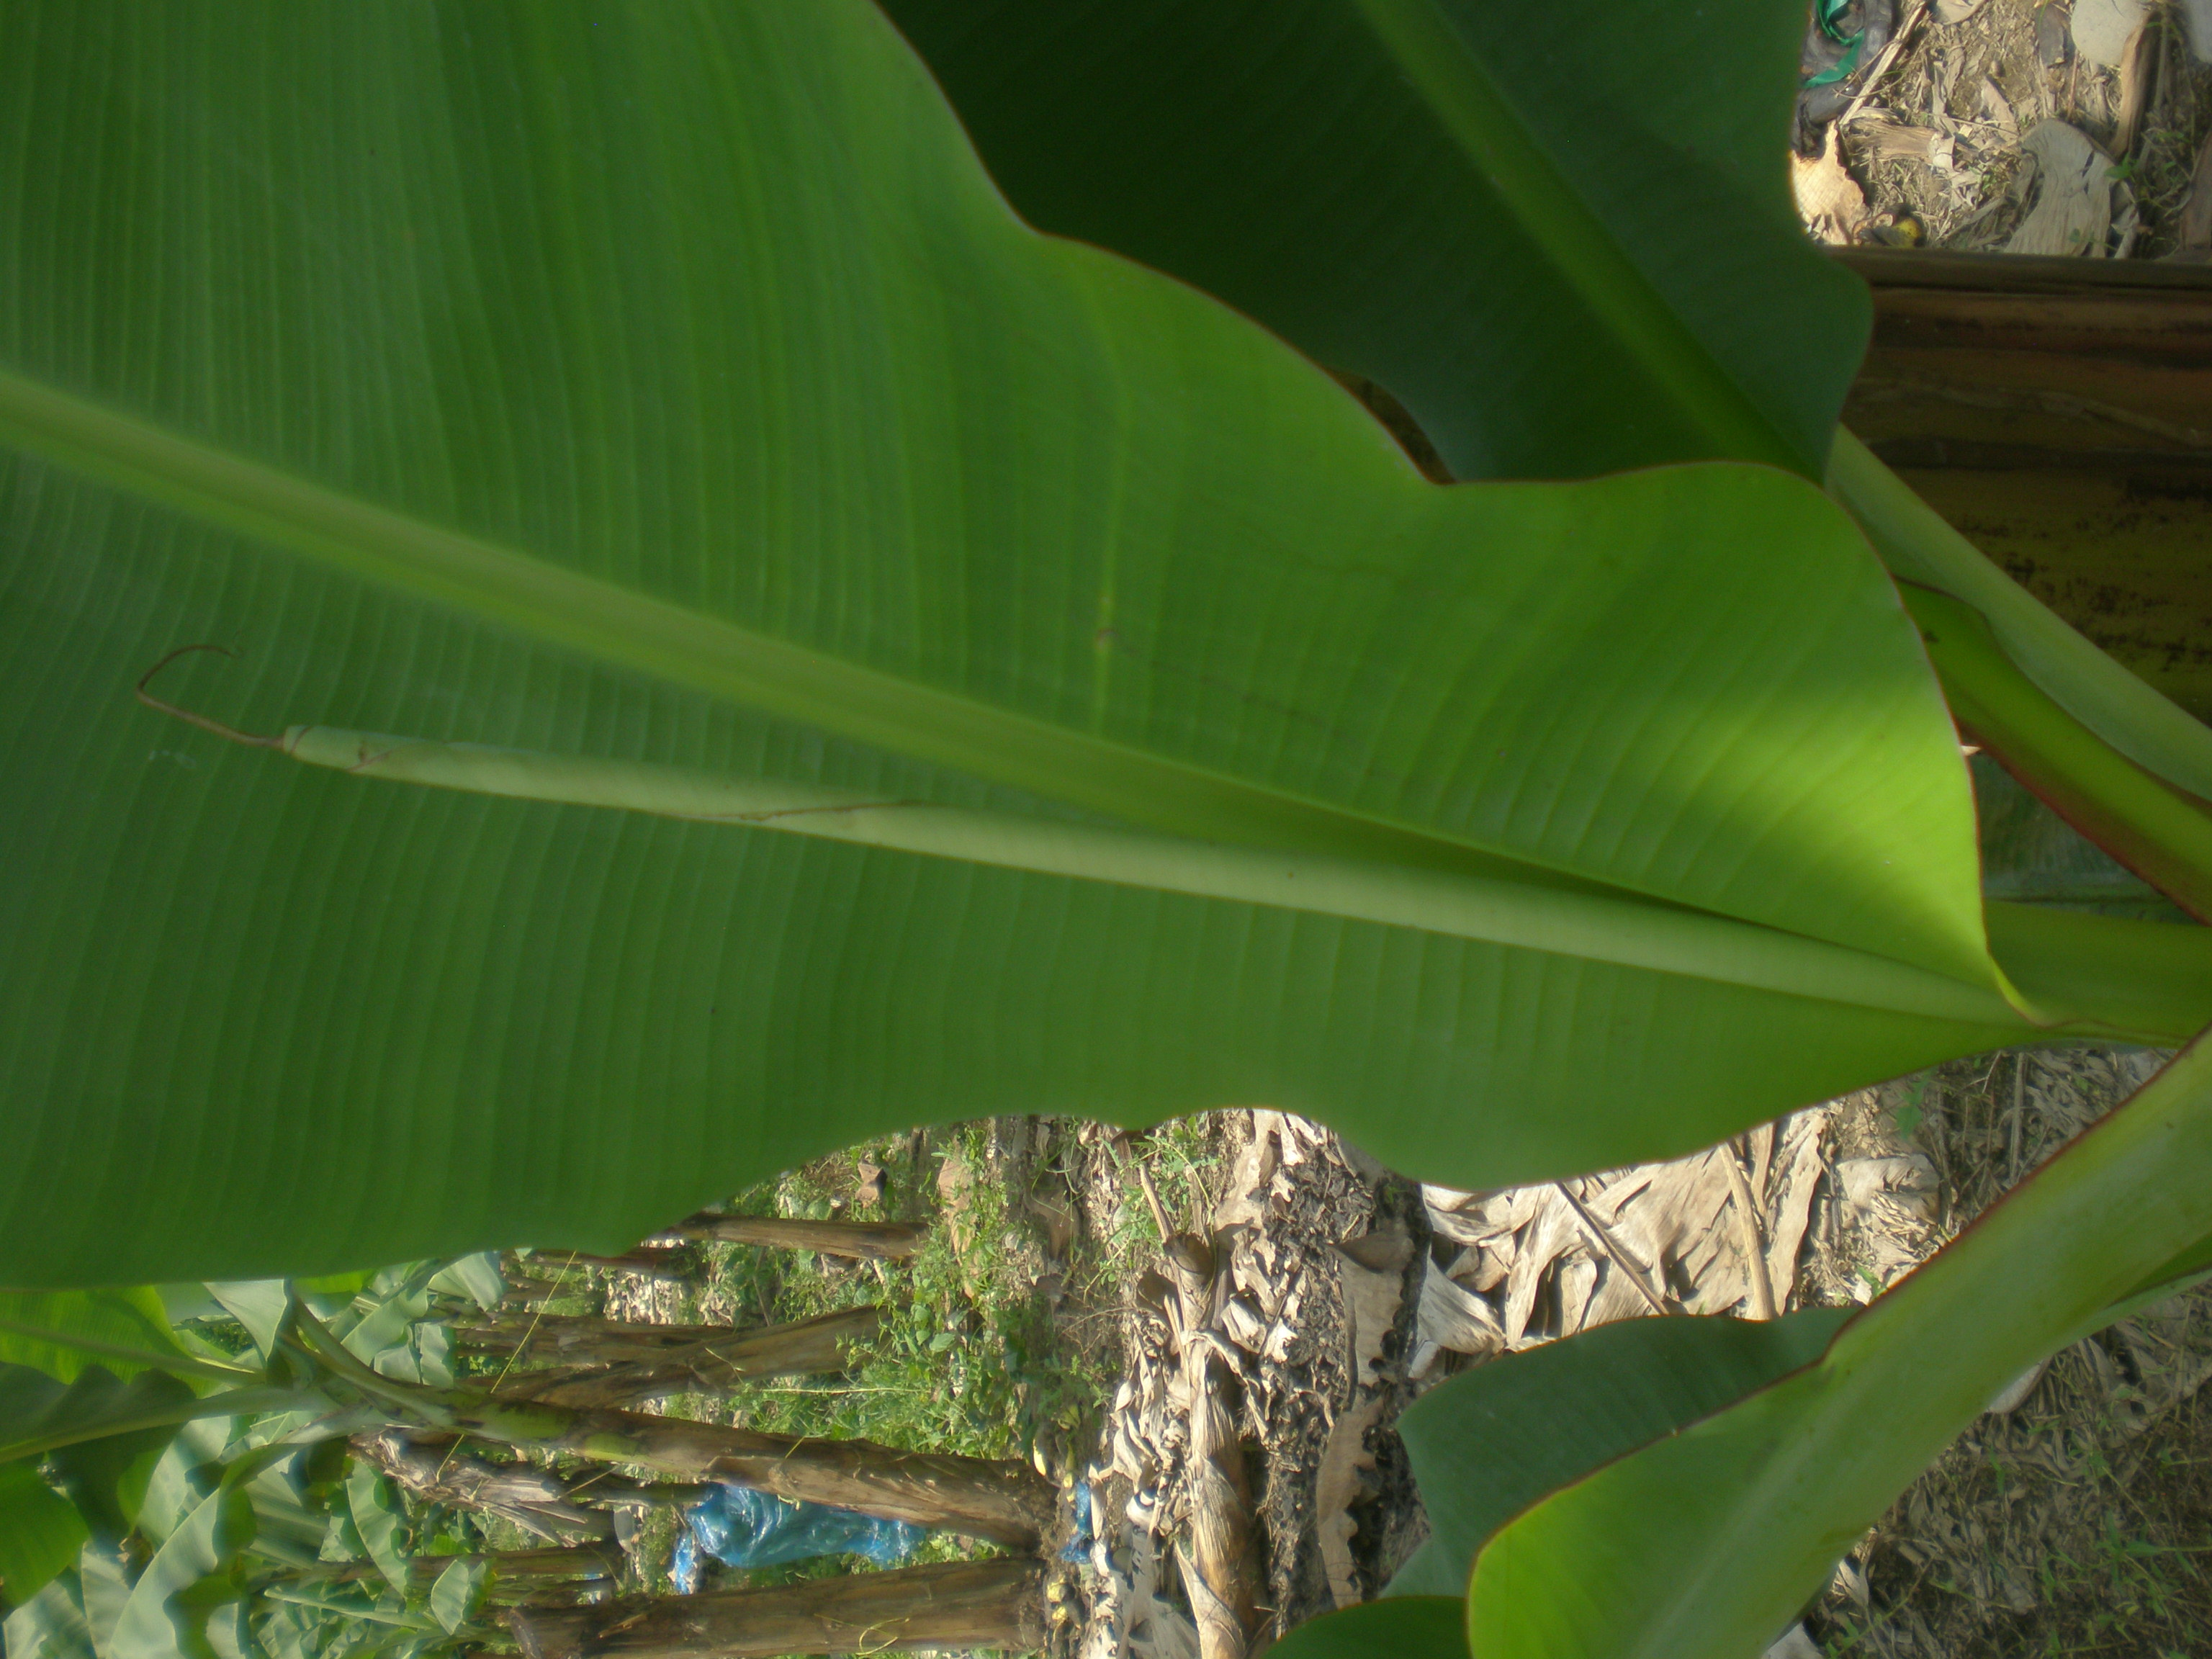candleleafs: (134, 643, 1947, 1028)
